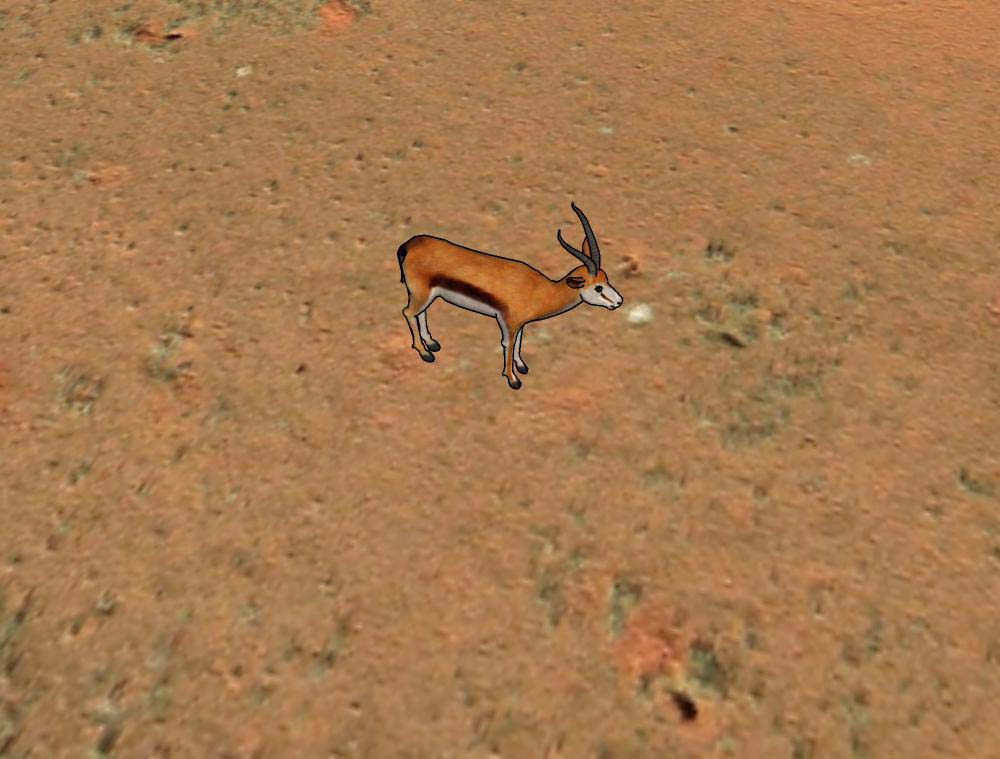springbok: (392, 200, 626, 394)
